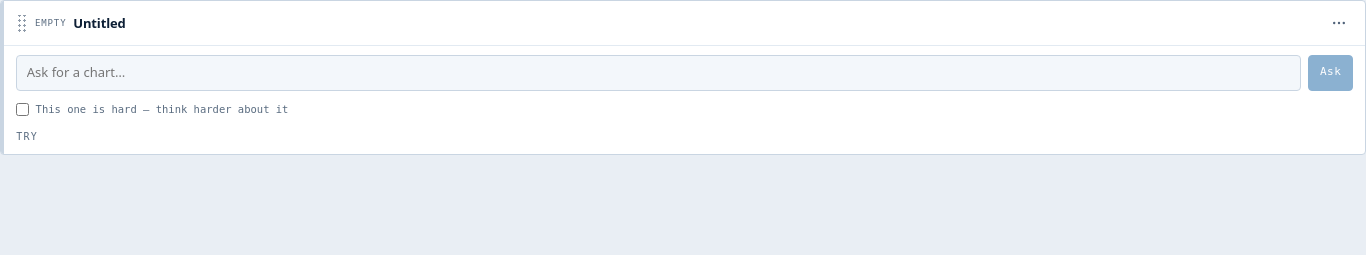
Test case: Card exchanges › turns the composer into a reply box once the card has asked something
Type "top well in each region" into the field labelled "Ask for a chart…". click: {"x": 659, "y": 73}
box: [16, 55, 1301, 91]
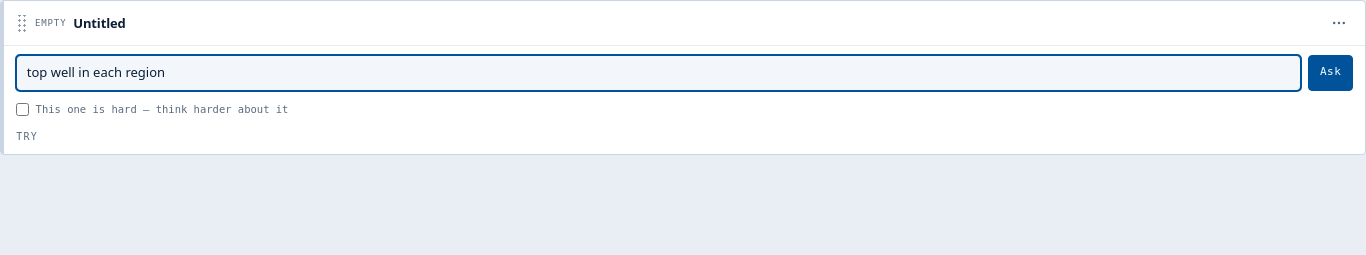
Click the button "Ask". click: {"x": 1331, "y": 73}
box: [1308, 55, 1354, 91]
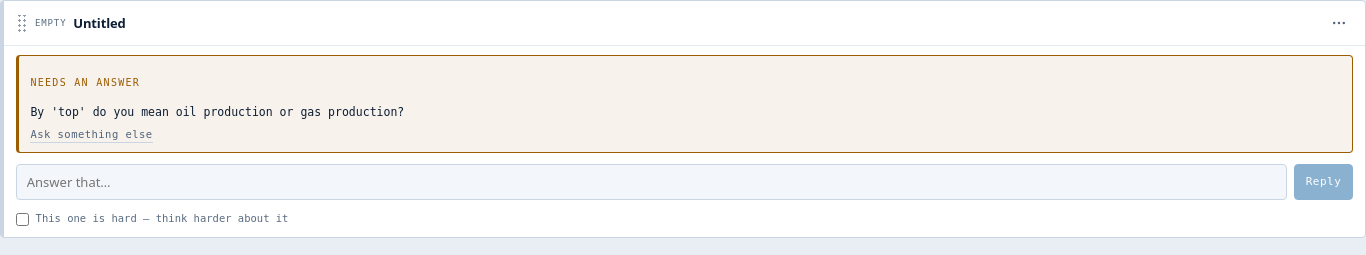
Check: the text "By 'top' do you mean oil production or gas production?" is shown, box [30, 105, 404, 119]
Check: the field labelled "Answer that…" is shown, box [16, 164, 1287, 200]
